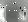person: (1, 7, 7, 22), (21, 9, 26, 20)
